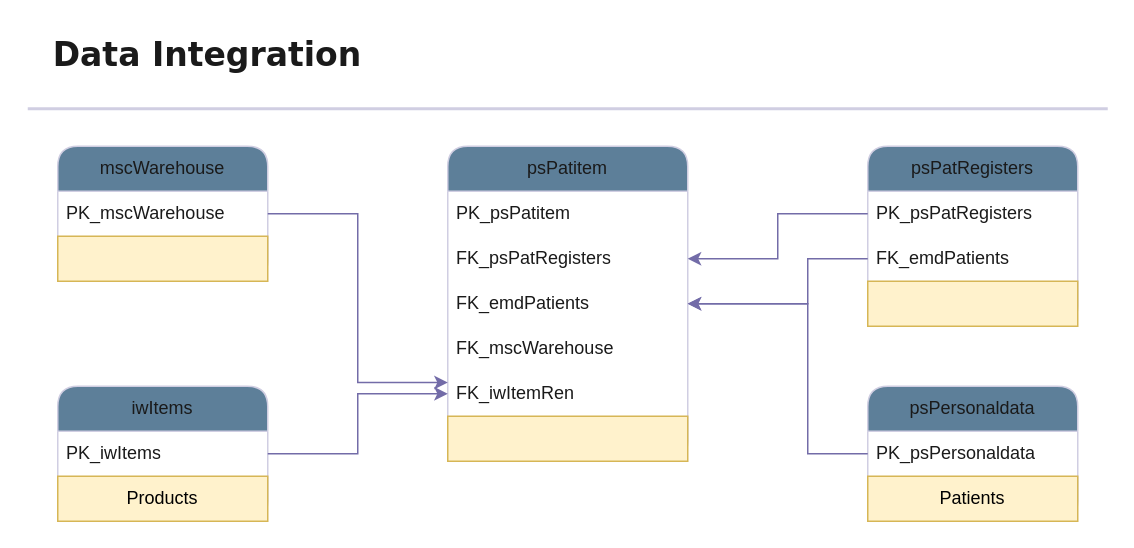
Image size: 1134x548. Some labels were removed from this diagram. The shapes that lost their labels are listed below. From the top down, each one's box as (x1, y1, x2, y2) in pixels, then its label:
(56, 235, 268, 281): Departments
(866, 280, 1078, 326): Registers
(446, 415, 688, 461): Sales
